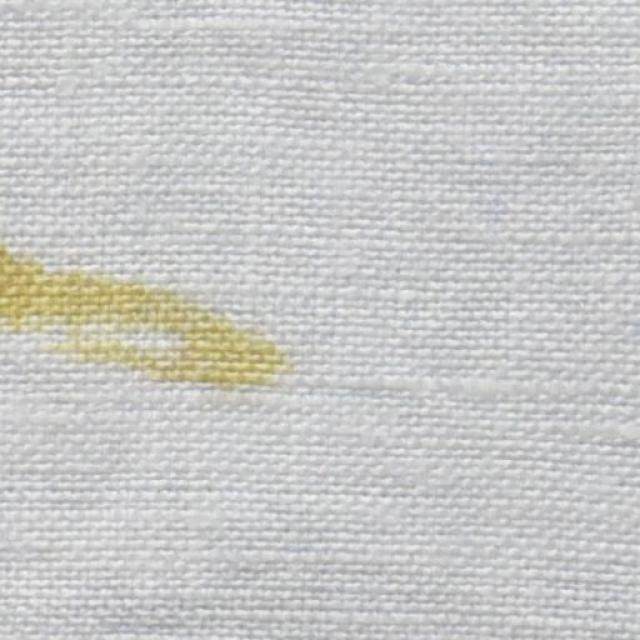Stain: (0, 238, 269, 381)
